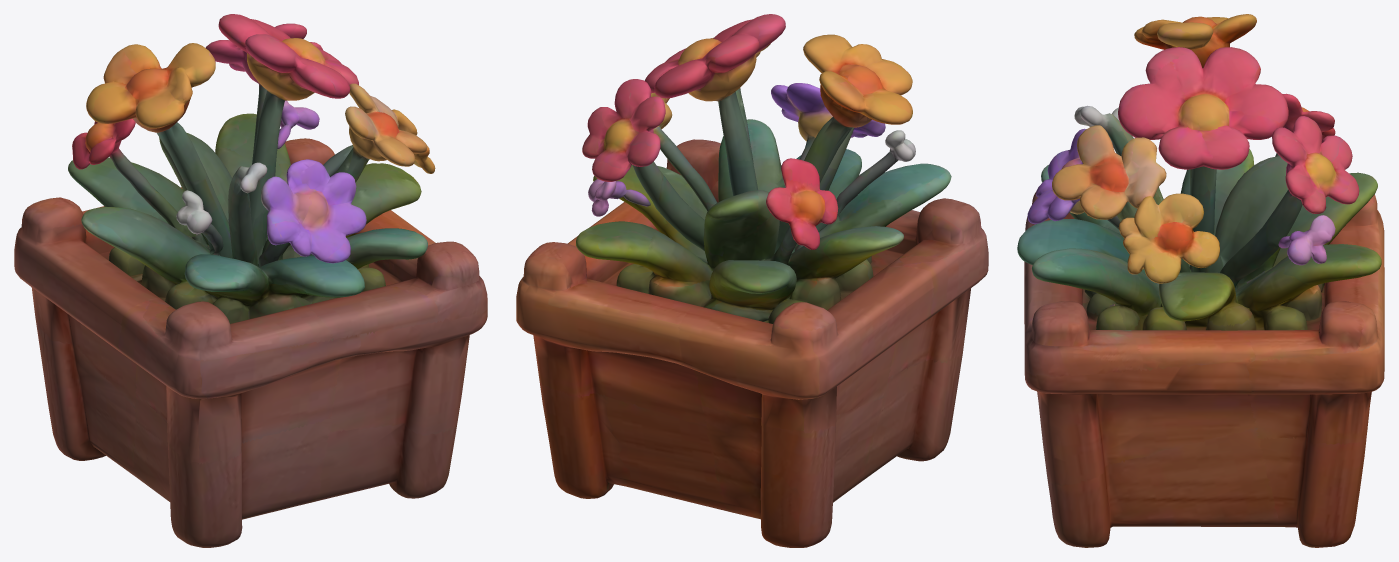
File: flower_planter.glb
3 renders of one model, left to right at view 1: azimuth 30°, elevation 25°; view 2: azimuth 150°, elevation 25°; view 3: azimuth 270°, elevation 25°, orthographic.
Parts seen in each view (by area): view 1: tripo_node_d2c022c5-2e69-4804-8845-41ea771f40fa; view 2: tripo_node_d2c022c5-2e69-4804-8845-41ea771f40fa; view 3: tripo_node_d2c022c5-2e69-4804-8845-41ea771f40fa.
Boxes of the visible parts, left/top/right/bottom form: tripo_node_d2c022c5-2e69-4804-8845-41ea771f40fa: left=14, top=14, right=487, bottom=547; tripo_node_d2c022c5-2e69-4804-8845-41ea771f40fa: left=516, top=14, right=988, bottom=547; tripo_node_d2c022c5-2e69-4804-8845-41ea771f40fa: left=1017, top=14, right=1384, bottom=547.
Bounding box in the file's own units: 0.71 × 0.9488 × 0.7193.
1 material, 1 textured.
